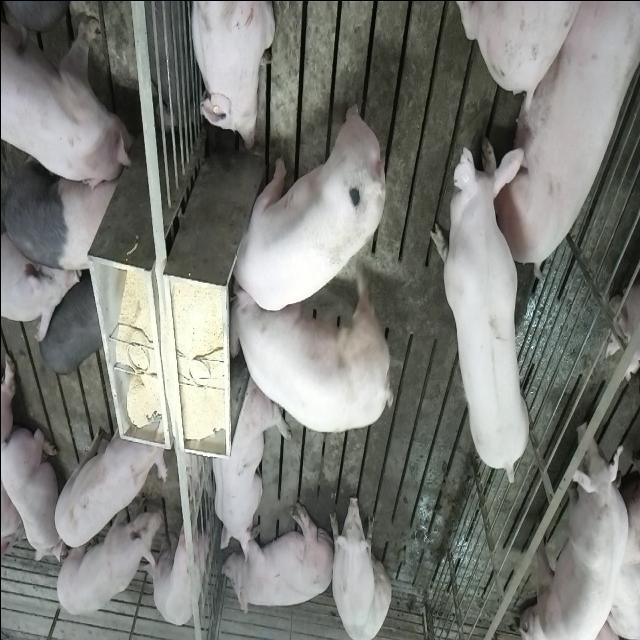Feeding: (222, 100, 382, 312), (220, 279, 388, 435)
Lateral_lying: (221, 499, 334, 618)
Sitting: (328, 492, 390, 640)
Standing: (429, 129, 534, 489), (2, 0, 135, 191), (526, 414, 638, 640), (51, 414, 166, 550), (2, 148, 124, 270), (55, 496, 162, 618), (142, 508, 204, 627), (36, 274, 108, 375)
Sternal_lying: (208, 372, 286, 556), (185, 0, 272, 150), (1, 424, 61, 570)
